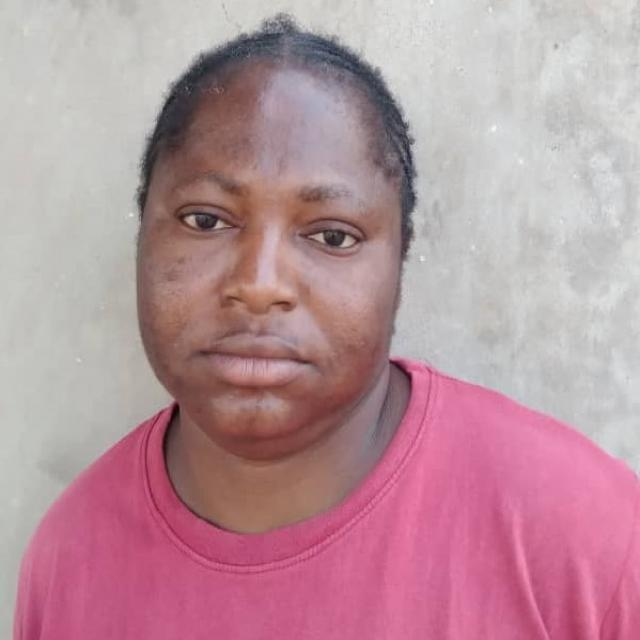sad: (128, 12, 415, 454)
